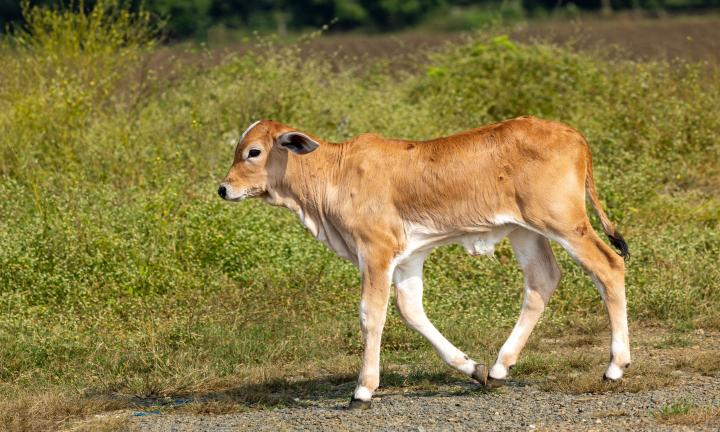Brahman: (218, 116, 631, 410)
